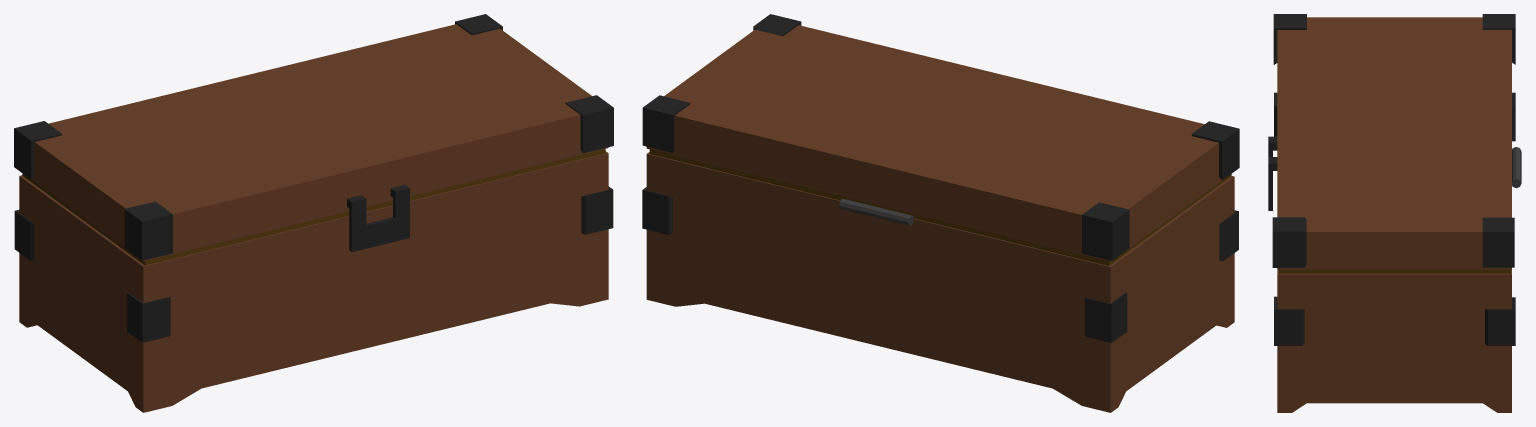
Rendered from tablechest01.gltf.
The picture shows the model from 3 angles, left to right: view 1: azimuth 30°, elevation 25°; view 2: azimuth 150°, elevation 25°; view 3: azimuth 270°, elevation 25°; orthographic projection. The views are drawn at different scales.
Parts seen in each view (by area): view 1: Cube; view 2: Cube; view 3: Cube.
Boxes of the visible parts, x1,y1,x2,y2 form: Cube: (14, 14, 613, 412); Cube: (642, 14, 1239, 412); Cube: (1268, 14, 1521, 412).
Size of the model in its own units: 0.4489 by 0.176 by 0.2207.
Materials: 1 (1 with a texture image).
